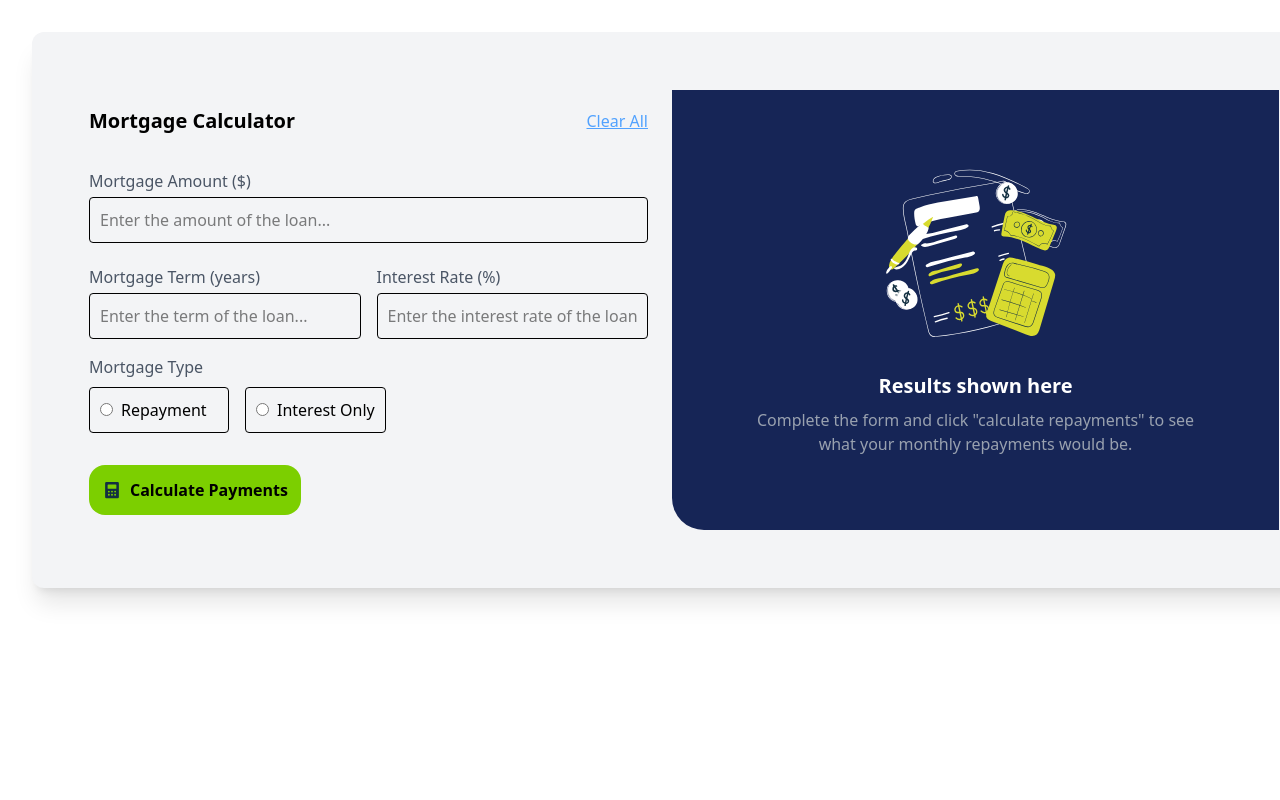
Scenario: Calculator Component › should clear input fields when clear button is clicked
The image size is (1280, 800).
Set the values of the input elements using fireEvent.change to properly update React state
Type "100000" into the field with id "mortgage-amount" at (368, 220), box [89,197,648,243]
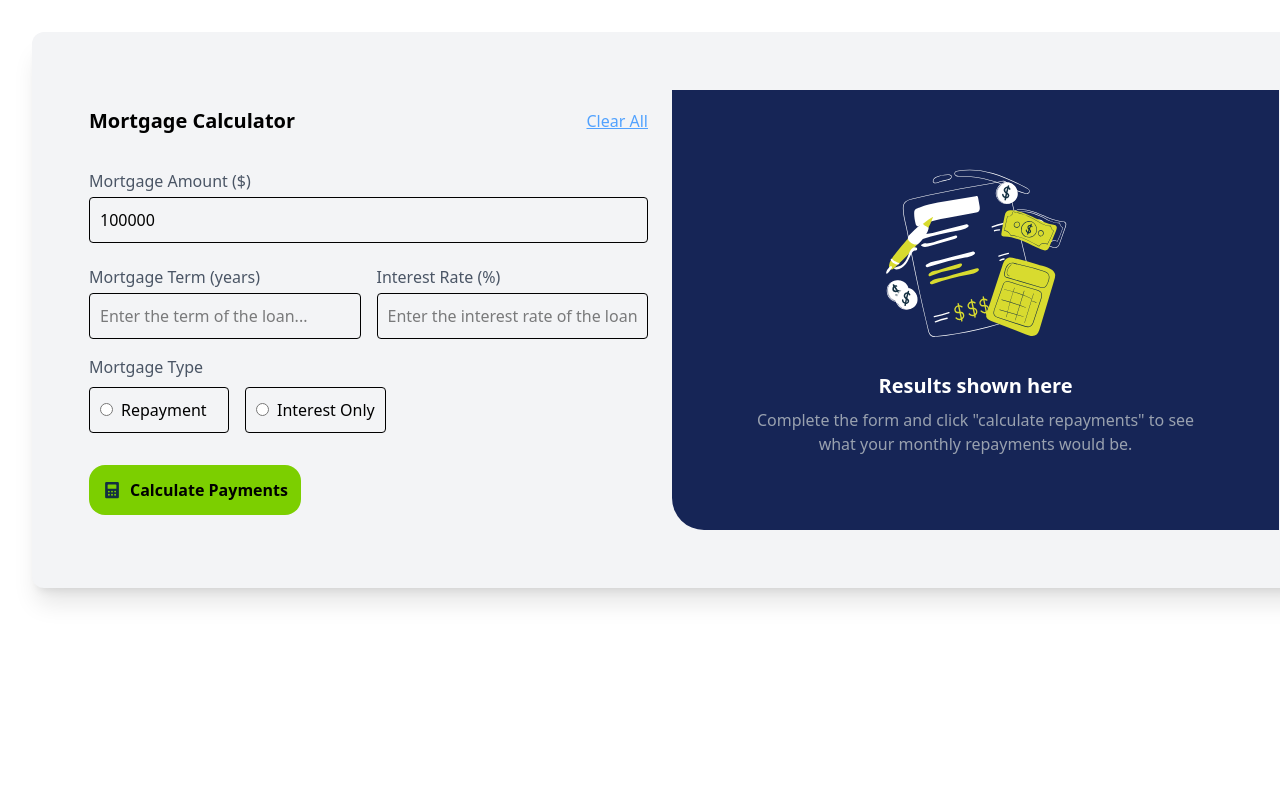
Type "5" into the field with id "mortgage-rate" at (512, 316), box [376,293,648,339]
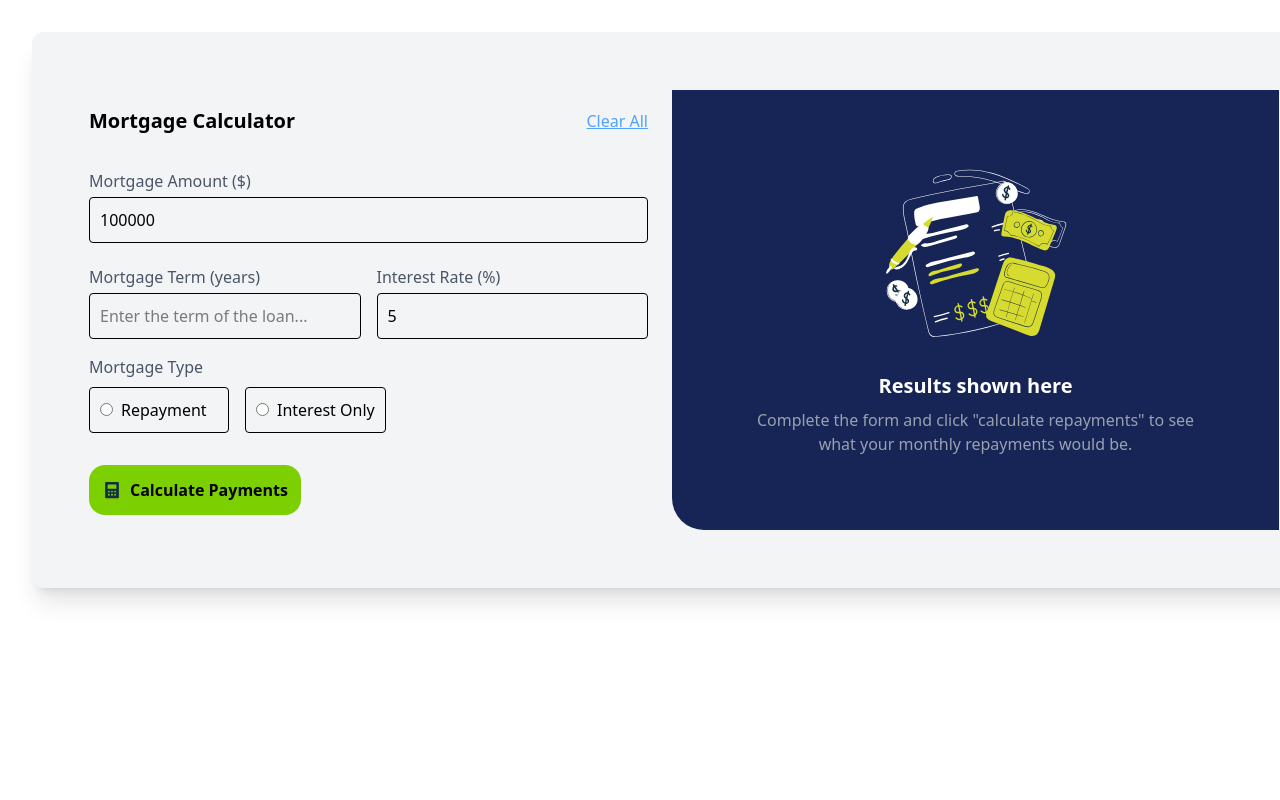
Type "30" into the field with id "mortgage-term" at (225, 316), box [89,293,360,339]
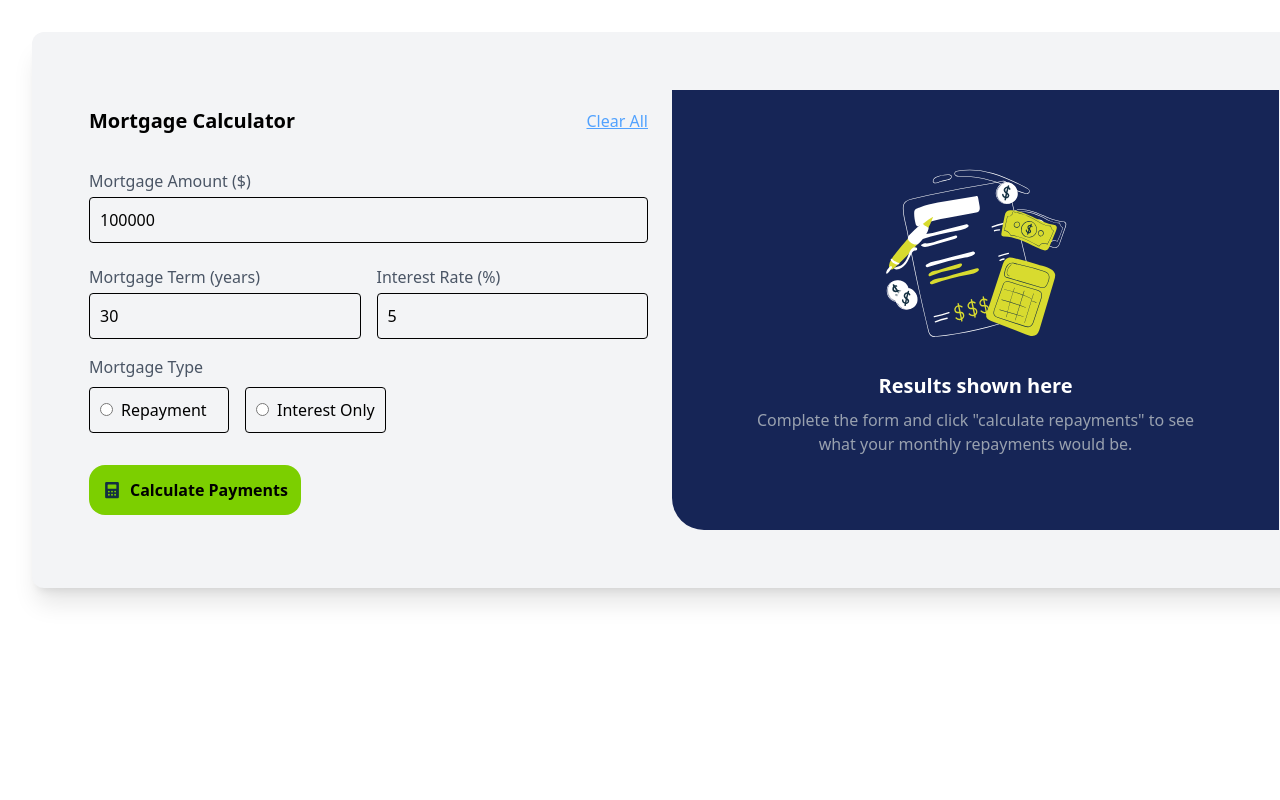
Click the radio button with id "mortgage-repayment" at (106, 410), box [100,403,113,416]
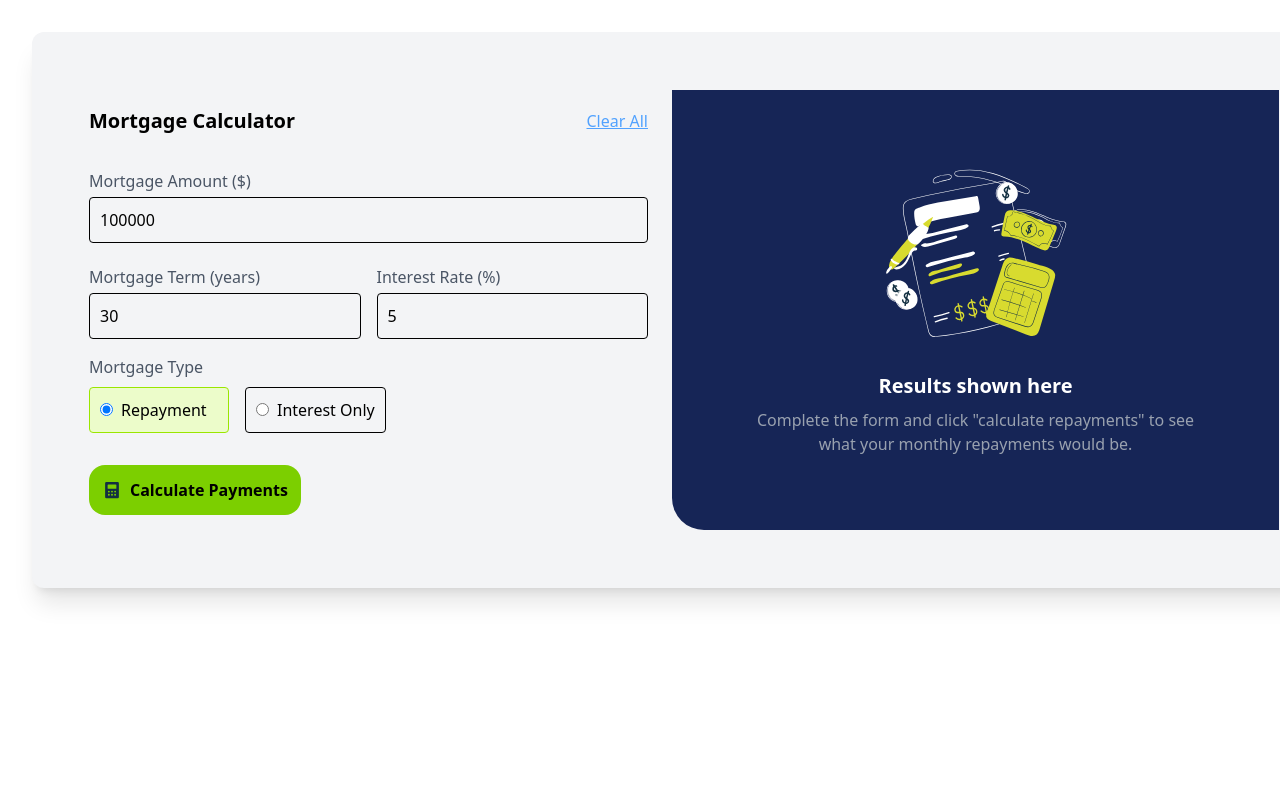
Simulate a click event on the clear button
Click the button with id "clear-button" at (617, 121), box [586,109,648,133]
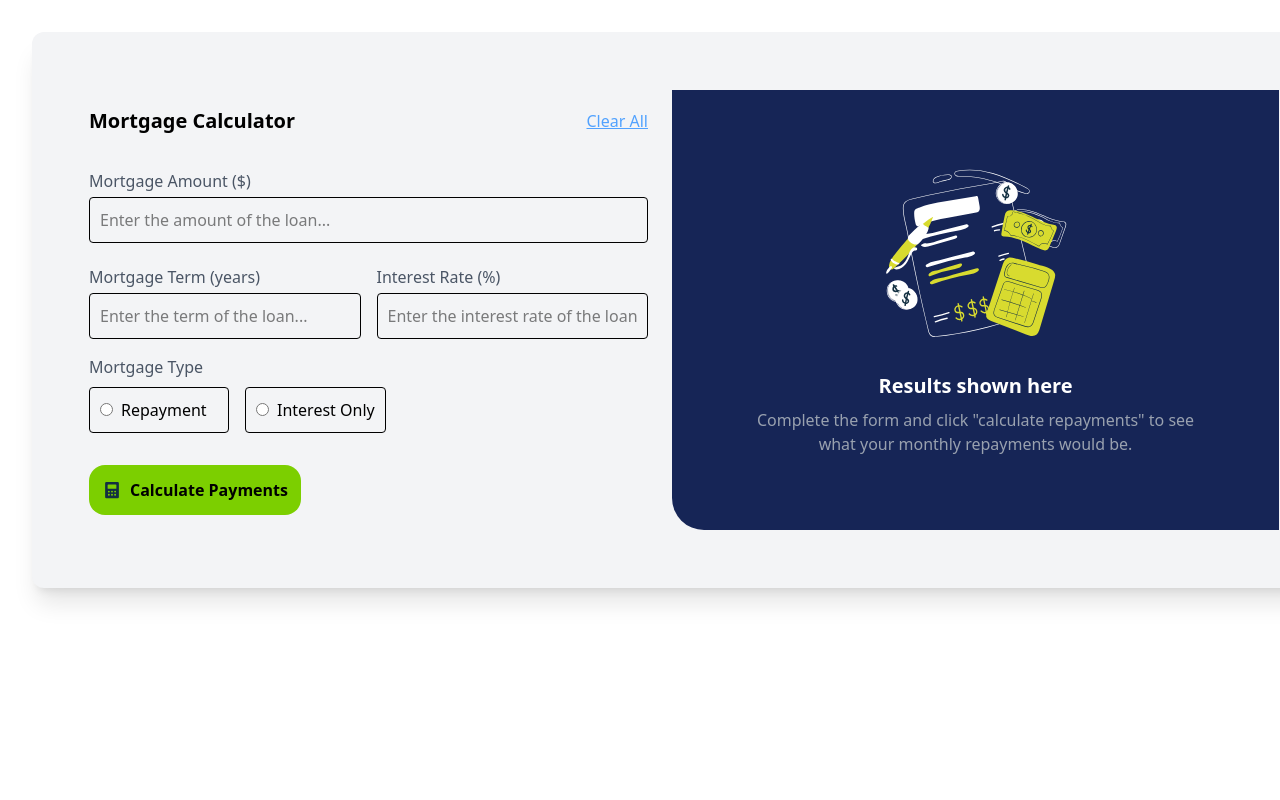
Expected: the field with id "mortgage-amount" is empty, [89,197,648,243]
Expected: the field with id "mortgage-rate" is empty, [376,293,648,339]
Expected: the field with id "mortgage-term" is empty, [89,293,360,339]
